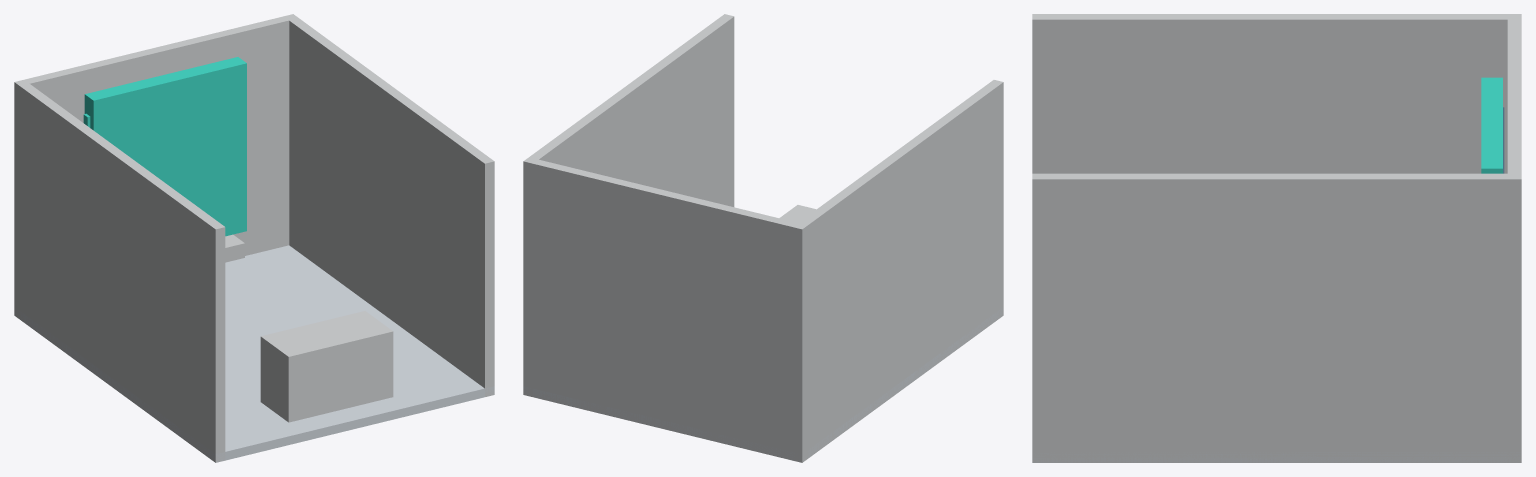
The picture shows the model from 3 angles, left to right: view 1: azimuth 30°, elevation 25°; view 2: azimuth 150°, elevation 25°; view 3: azimuth 270°, elevation 25°; orthographic projection. The views are drawn at different scales.
Parts seen in each view (by area): view 1: Exhibition Booth Concept; view 2: Exhibition Booth Concept; view 3: Exhibition Booth Concept.
Boxes of the visible parts, x1,y1,x2,y2 form: Exhibition Booth Concept: (14, 14, 494, 462); Exhibition Booth Concept: (523, 14, 1003, 462); Exhibition Booth Concept: (1032, 14, 1521, 462).
Bounding box in the file's own units: 4 × 3.2 × 5.
